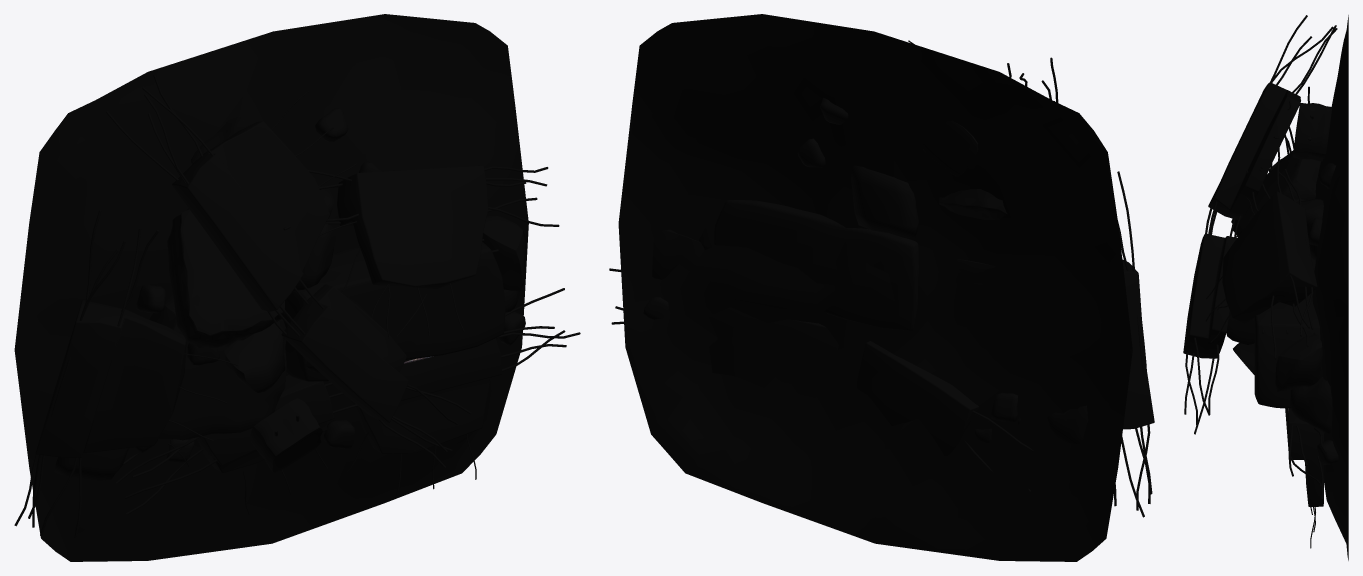
Rendered from construction garbage.fbx.
The picture shows the model from 3 angles, left to right: view 1: azimuth 30°, elevation 25°; view 2: azimuth 150°, elevation 25°; view 3: azimuth 270°, elevation 25°; orthographic projection. The views are drawn at different scales.
Parts seen in each view (by area): view 1: construction garbage (×7); view 2: construction garbage (×7); view 3: construction garbage (×7).
Boxes of the visible parts, x1,y1,x2,y2 form: construction garbage (×7): [14, 14, 580, 561]; construction garbage (×7): [609, 14, 1154, 561]; construction garbage (×7): [1183, 15, 1348, 560].
Size of the model in its own units: 93.75 by 84.52 by 29.27.
